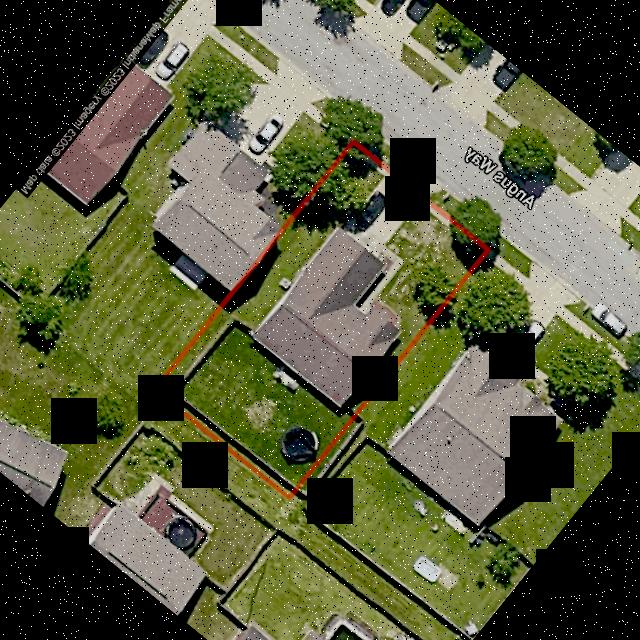Driveway: (339, 170, 421, 313)
Extra Driveway: (388, 145, 443, 193)
Extra Lawn: (421, 189, 499, 249), (352, 124, 390, 167)
House: (253, 229, 399, 406)
Other: (280, 426, 318, 464), (271, 365, 299, 391), (278, 277, 291, 290)
Sidewalk: (417, 199, 484, 254), (349, 145, 384, 174)
